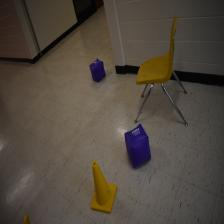cone: (91, 161, 117, 213), (23, 213, 30, 224)
cube: (125, 124, 152, 168), (89, 58, 106, 83)
